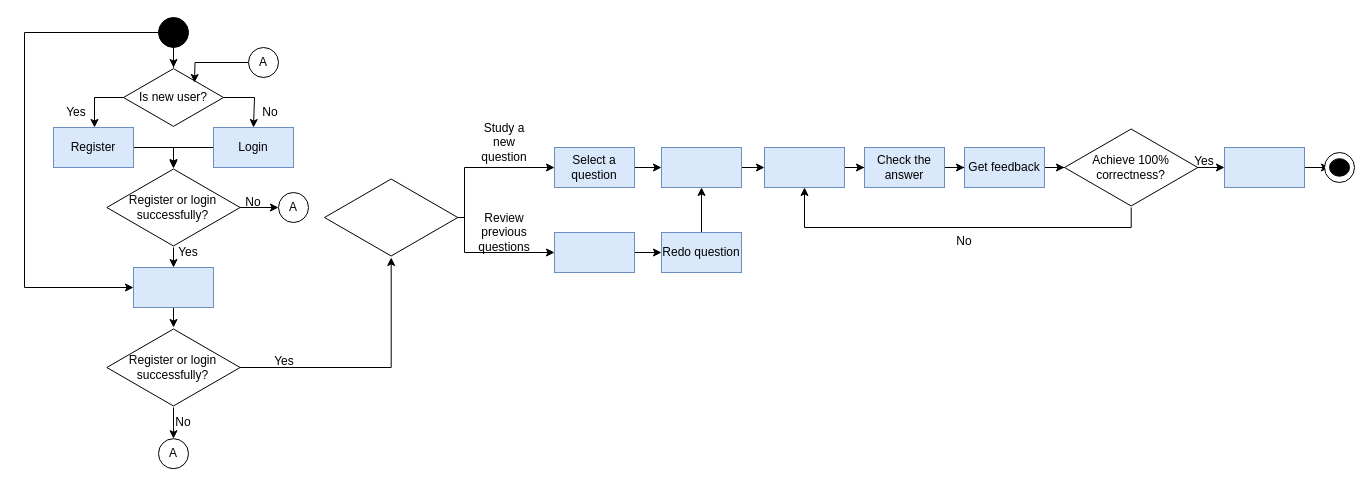
Some shapes in this 1372 by 487 pixel diagram are drawn without their labels. Here are the shapes that lost their labels. From the top down, the centre of each, then its label:
point (701, 167): View question detail
point (804, 167): Reorder the jumbled codes
point (1264, 167): Finish the question
point (391, 217): What do you want to do next?
point (594, 252): Browsing answer record history
point (173, 287): Browsing question list
